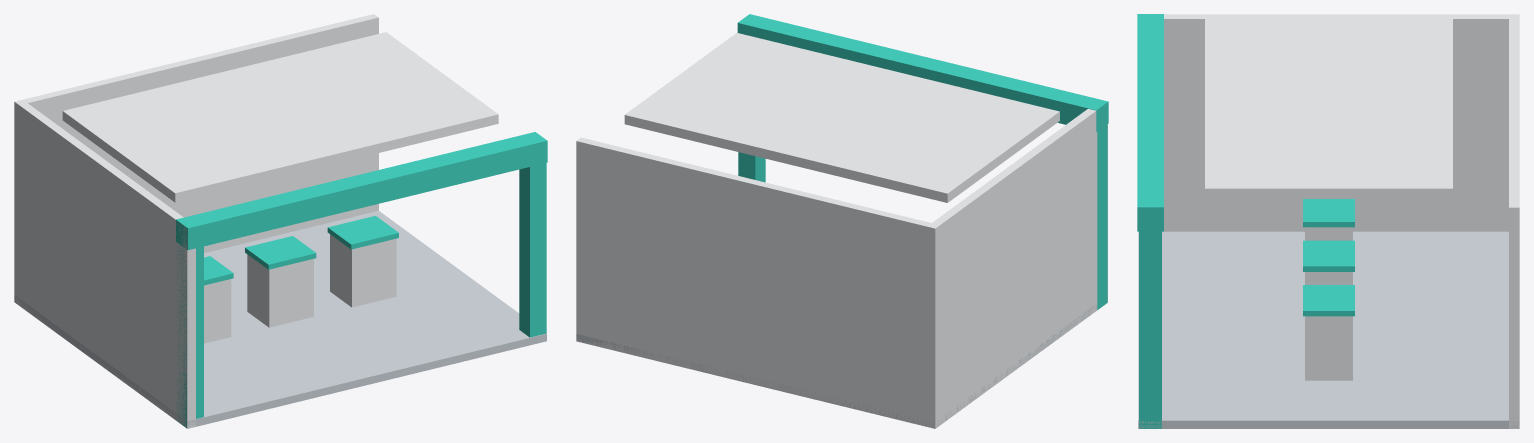
The picture shows the model from 3 angles, left to right: view 1: azimuth 30°, elevation 25°; view 2: azimuth 150°, elevation 25°; view 3: azimuth 270°, elevation 25°; orthographic projection. The views are drawn at different scales.
Visible parts, largest first — view 1: Exhibition Booth Concept; view 2: Exhibition Booth Concept; view 3: Exhibition Booth Concept.
Boxes of the visible parts, left/top/right/bottom form: Exhibition Booth Concept: left=14, top=14, right=547, bottom=428; Exhibition Booth Concept: left=576, top=14, right=1108, bottom=428; Exhibition Booth Concept: left=1137, top=14, right=1519, bottom=428.
Size of the model in its own units: 6 by 3.34 by 5.02.
